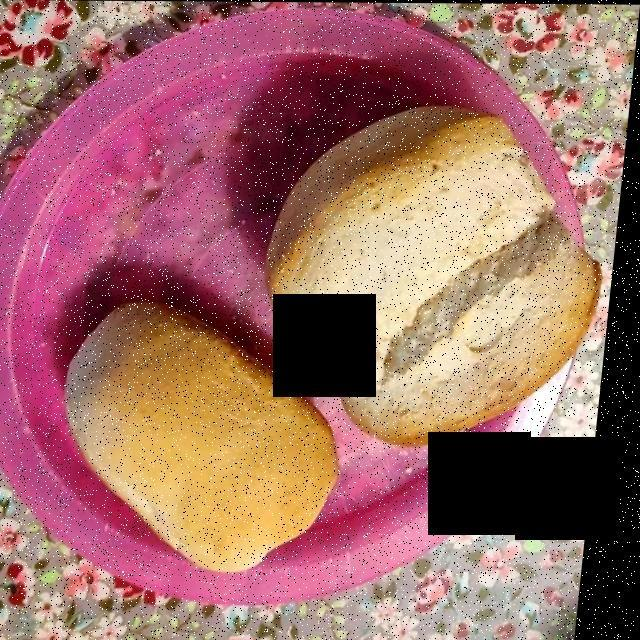bread: (72, 108, 609, 563)
